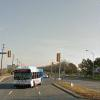Bus: (11, 63, 42, 88)
